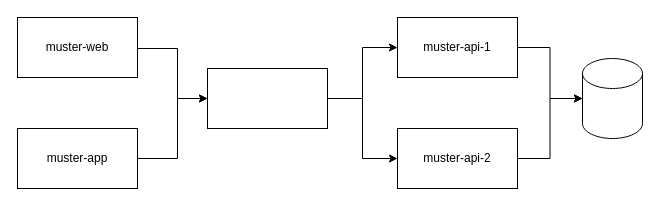
Some shapes in this 660 by 206 pixel diagram are drawn without their labels. The shapes that lost their labels are listed below. From the top down, each one's centre as x and y in pixels, then its label:
At [267,98]: "muster-bff".
At [612,98]: "muster-db".
